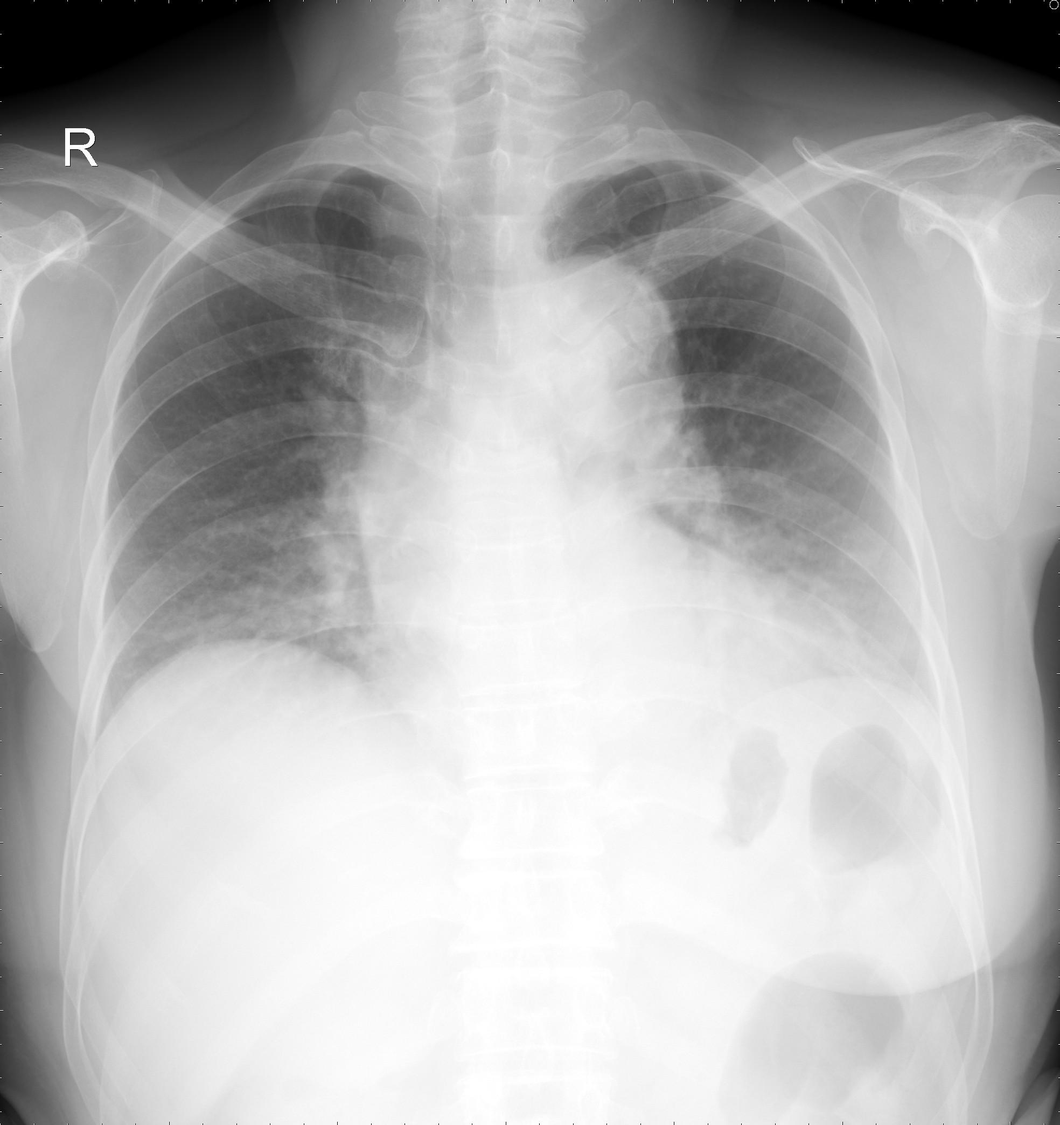Aortic enlargement: (498, 248, 690, 429)
Cardiomegaly: (364, 574, 877, 742)
